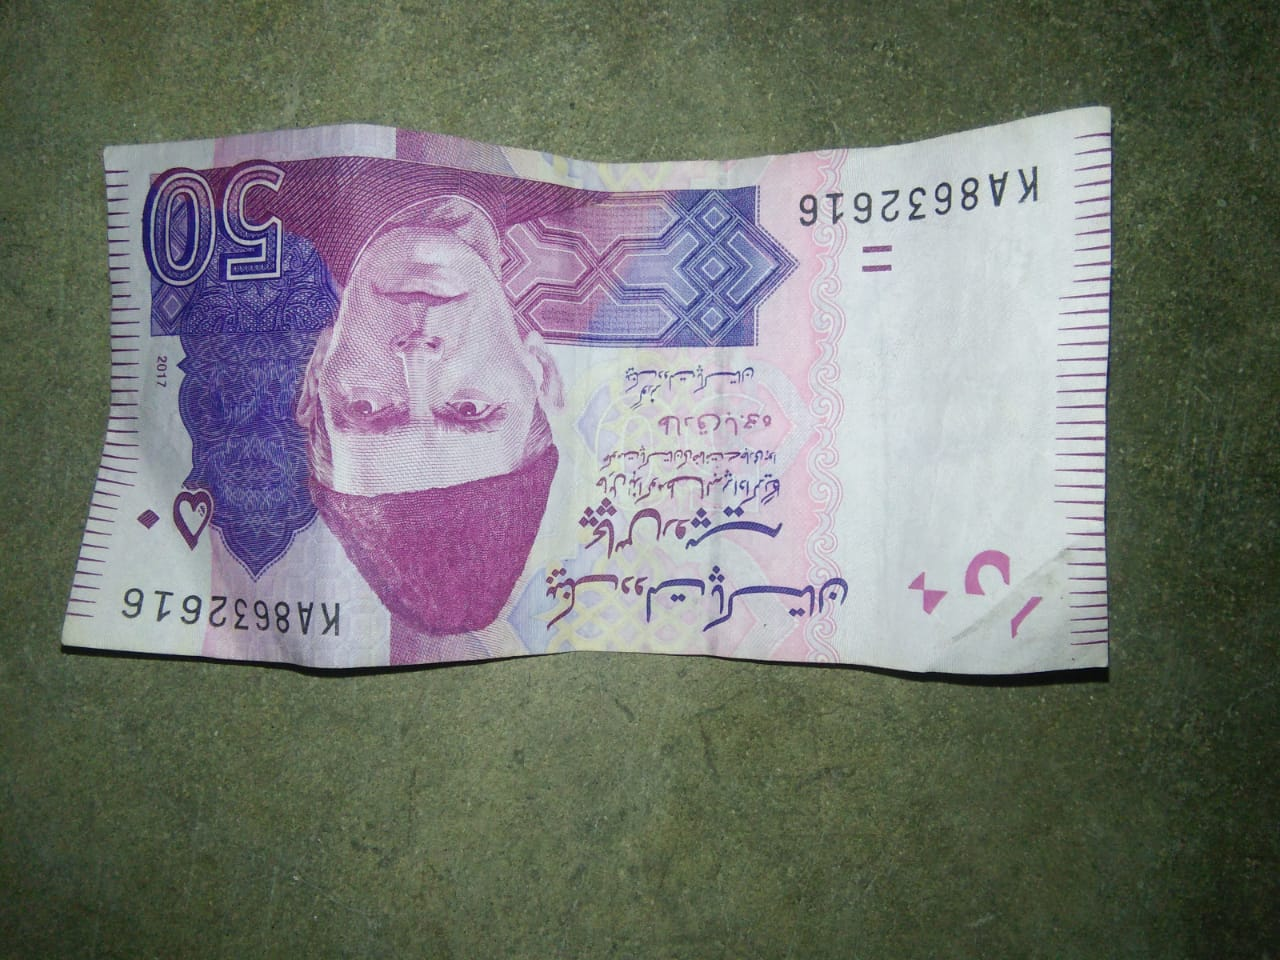50 rupee: (31, 96, 1116, 701)
